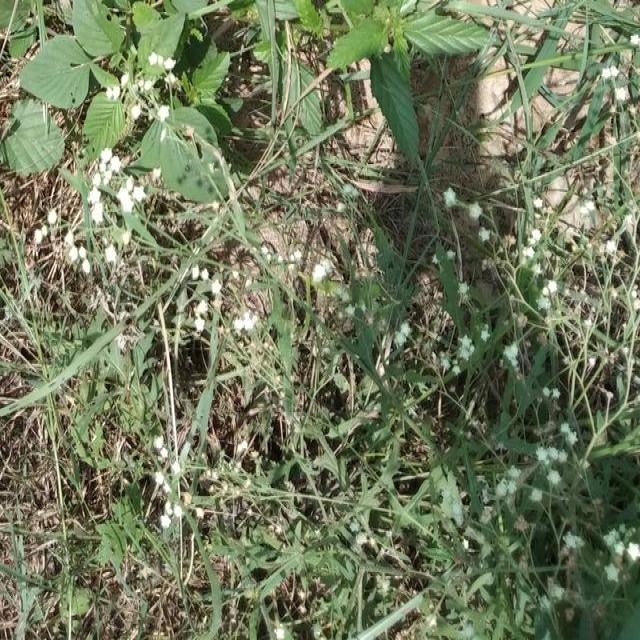weed: (385, 215, 616, 592), (48, 182, 261, 527), (35, 0, 206, 175), (289, 11, 494, 151)
